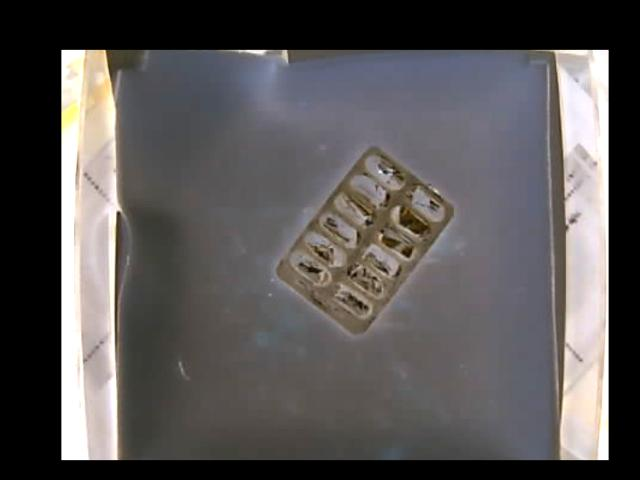Medicine: (276, 144, 451, 340)
